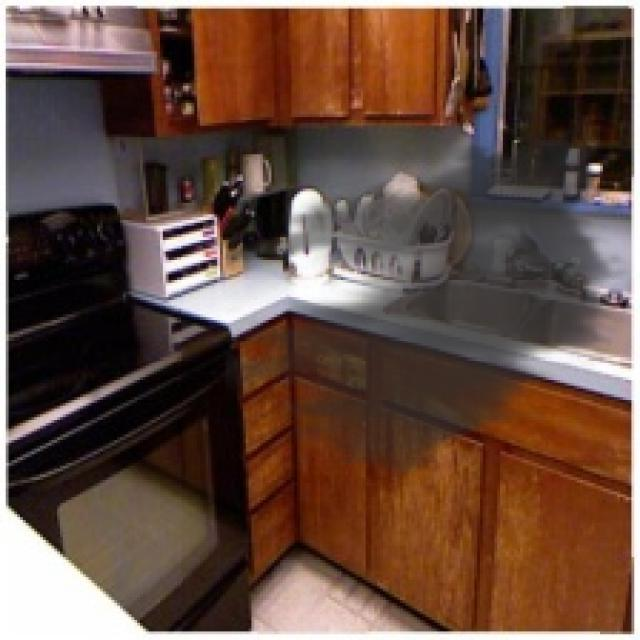Smoke: (226, 117, 634, 486)
